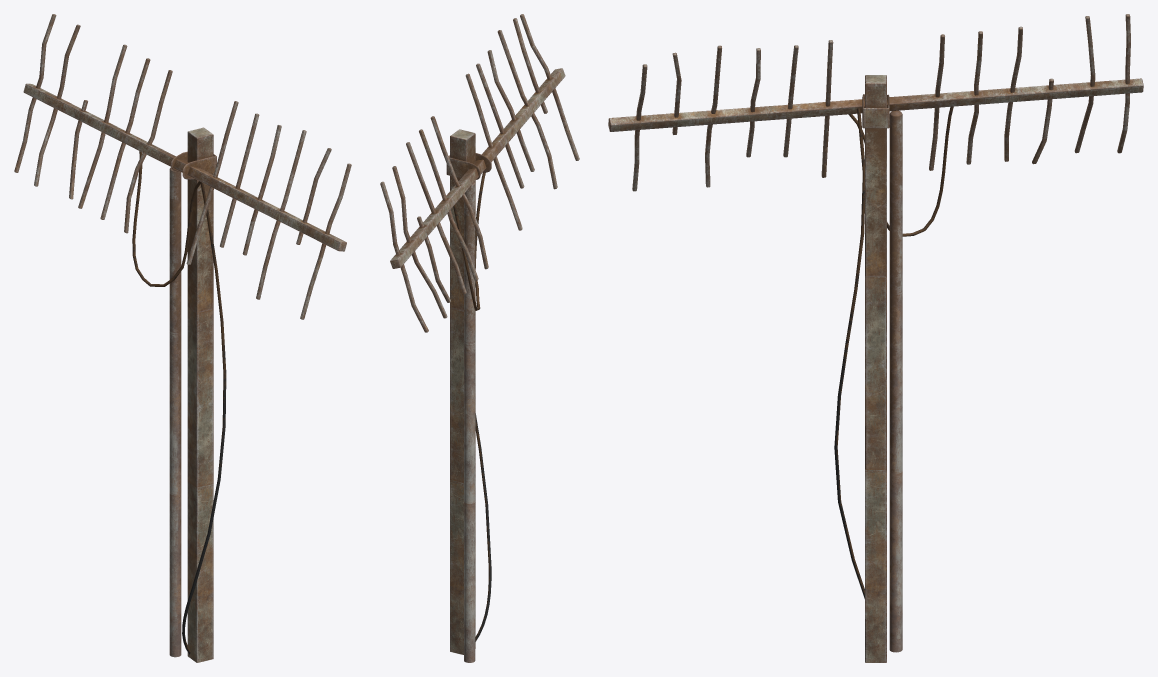
The model's file is SM_antenna.fbx.
The picture shows the model from 3 angles, left to right: view 1: azimuth 30°, elevation 25°; view 2: azimuth 150°, elevation 25°; view 3: azimuth 270°, elevation 25°; orthographic projection. The views are drawn at different scales.
Visible parts, largest first — view 1: SM_antenna_LOD0; view 2: SM_antenna_LOD0; view 3: SM_antenna_LOD0.
Boxes of the visible parts, box(x1,y1,x2,y2) form: SM_antenna_LOD0: box(14, 14, 351, 662); SM_antenna_LOD0: box(380, 14, 579, 662); SM_antenna_LOD0: box(608, 14, 1143, 662).
Size of the model in its own units: 89.52 by 309 by 401.
